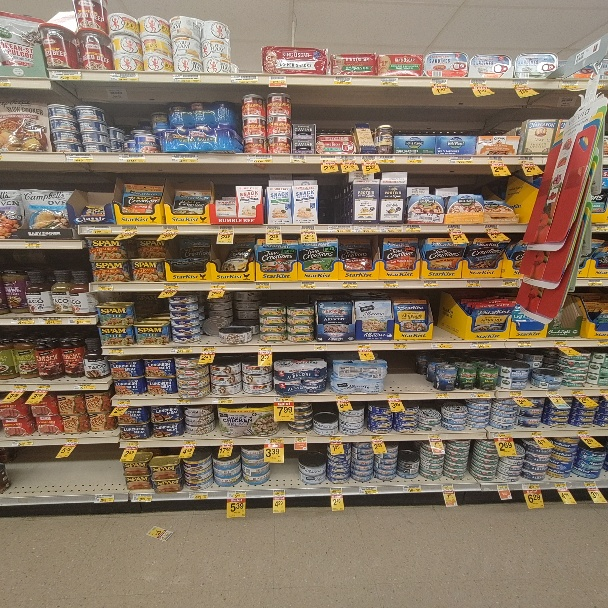All PRICE TAGS: (51, 71, 81, 79), (110, 72, 139, 80), (230, 75, 258, 83), (120, 154, 145, 162), (172, 154, 197, 162), (151, 527, 169, 538), (172, 74, 199, 81), (84, 226, 111, 233), (249, 154, 272, 162), (67, 154, 93, 161), (94, 493, 114, 502), (68, 316, 90, 324), (11, 318, 35, 325), (132, 493, 152, 501), (356, 225, 377, 232), (12, 439, 33, 446), (24, 240, 40, 249), (331, 225, 351, 232), (380, 225, 400, 232), (104, 347, 124, 354), (91, 284, 114, 290), (37, 318, 60, 324), (360, 486, 377, 494), (227, 491, 246, 498), (563, 81, 579, 89), (522, 483, 540, 490), (333, 77, 351, 84), (380, 78, 398, 85), (451, 157, 472, 163), (404, 225, 422, 232), (471, 342, 492, 348), (212, 397, 233, 403), (274, 396, 294, 402), (269, 76, 286, 83), (174, 346, 191, 353), (266, 436, 283, 443), (189, 492, 206, 499), (431, 342, 450, 348), (75, 384, 94, 390), (291, 156, 307, 163), (407, 156, 423, 163), (342, 281, 358, 288), (382, 280, 398, 287), (404, 485, 420, 492), (430, 79, 448, 85), (470, 80, 488, 86), (377, 156, 395, 162), (493, 432, 511, 438), (588, 279, 603, 286), (321, 156, 336, 163), (518, 156, 533, 163), (266, 226, 281, 233), (255, 282, 270, 289), (423, 280, 438, 287), (258, 345, 273, 352), (512, 80, 529, 86), (113, 397, 130, 403), (122, 440, 139, 446), (485, 224, 499, 231), (466, 279, 480, 286), (503, 279, 517, 286), (272, 489, 286, 496), (202, 345, 216, 352), (488, 157, 504, 163), (121, 226, 137, 232), (163, 226, 179, 232), (301, 226, 317, 232), (299, 282, 315, 288), (314, 344, 327, 351), (183, 438, 196, 445), (329, 435, 342, 442), (329, 487, 342, 494), (13, 384, 26, 391), (340, 156, 355, 162), (219, 226, 234, 232), (447, 225, 462, 231), (210, 283, 225, 289), (334, 394, 349, 400), (162, 284, 179, 289), (357, 343, 371, 349), (385, 393, 399, 399), (429, 433, 443, 439), (441, 484, 455, 490), (360, 156, 374, 162), (510, 390, 522, 397), (36, 384, 50, 390), (472, 392, 488, 397), (1, 79, 11, 87), (554, 482, 567, 488), (394, 343, 407, 349), (220, 438, 233, 444), (294, 436, 307, 442), (371, 435, 384, 441), (519, 341, 532, 347), (497, 484, 509, 490), (584, 481, 596, 487), (546, 390, 558, 396), (572, 390, 583, 396), (436, 393, 449, 398), (554, 341, 567, 346), (577, 430, 589, 435), (531, 431, 542, 436), (67, 439, 78, 444), (598, 340, 607, 346), (601, 389, 608, 395)
